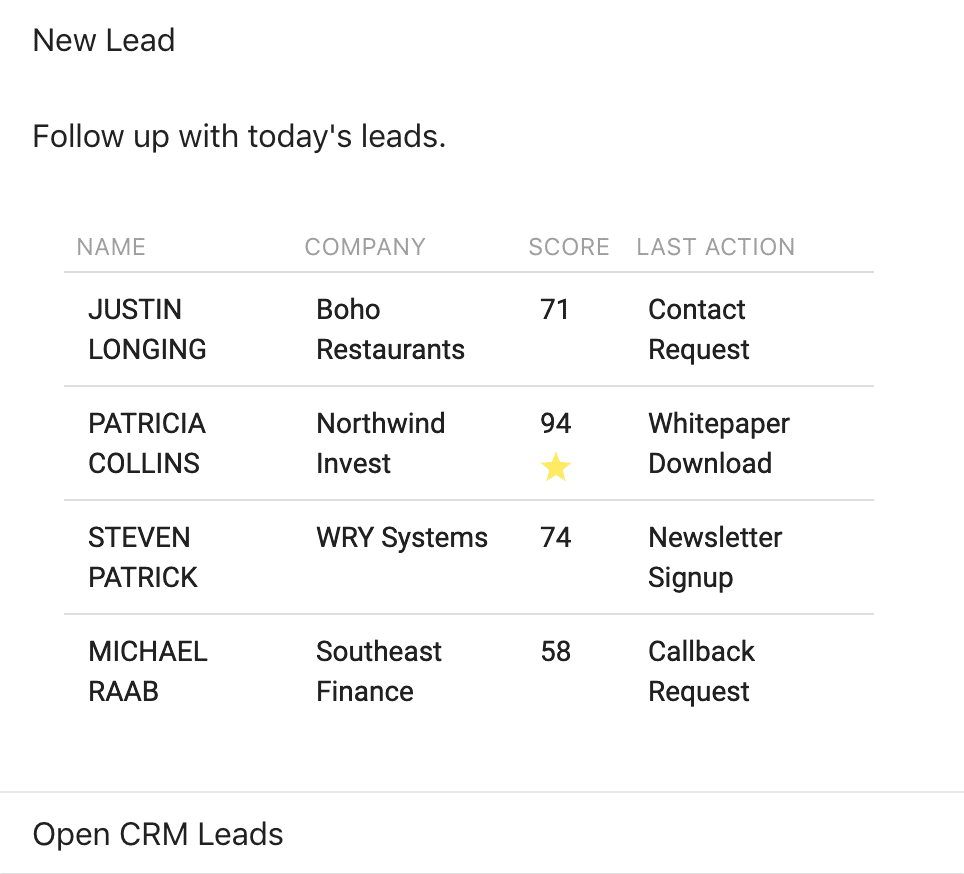image: (535, 449, 579, 489)
textbox: (22, 106, 452, 160), (303, 289, 478, 376), (69, 396, 237, 485), (638, 400, 802, 487), (306, 401, 472, 484), (304, 628, 459, 716), (638, 518, 800, 601), (23, 815, 291, 860), (77, 514, 218, 599), (76, 287, 219, 369), (76, 629, 222, 706), (632, 630, 774, 709), (633, 288, 761, 369), (307, 512, 499, 561), (27, 15, 184, 62), (627, 227, 811, 266), (295, 225, 433, 263), (520, 226, 619, 262), (70, 226, 158, 264), (532, 403, 584, 440), (533, 519, 581, 559), (535, 286, 580, 328), (534, 630, 579, 672)
